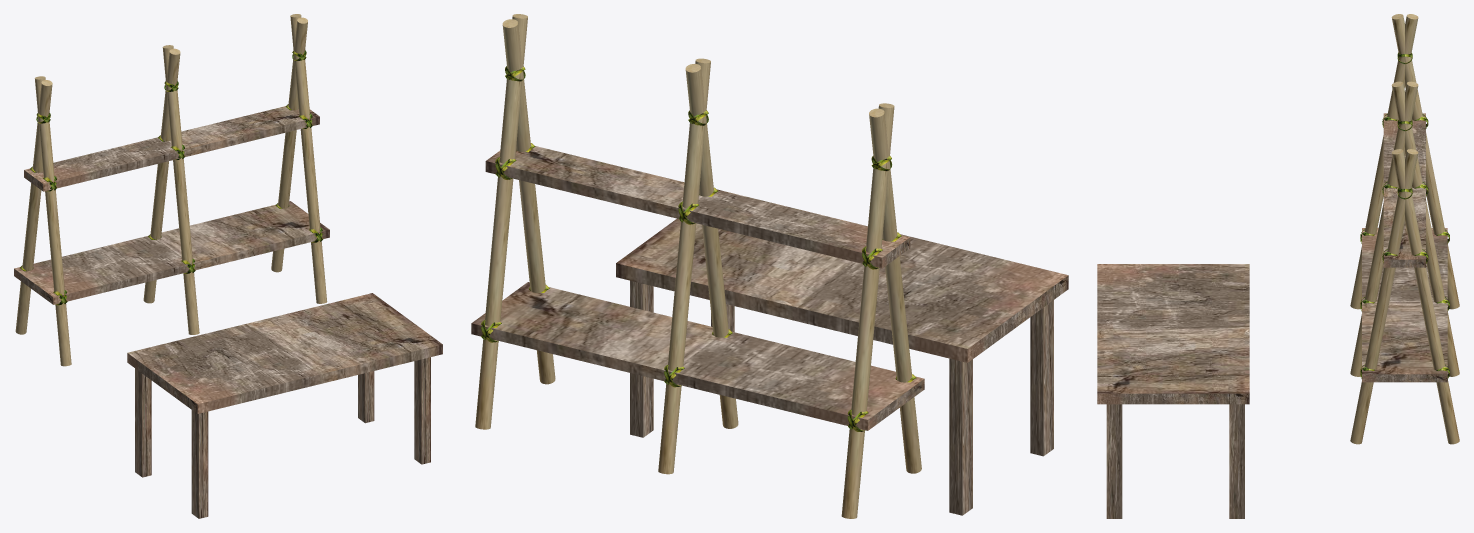
The model's file is comida tendas.fbx.
The picture shows the model from 3 angles, left to right: view 1: azimuth 30°, elevation 25°; view 2: azimuth 150°, elevation 25°; view 3: azimuth 270°, elevation 25°; orthographic projection. The views are drawn at different scales.
Parts seen in each view (by area): view 1: pCube504, pCube503, pCube509, pCylinder127, pCylinder129, pCylinder125, pCylinder128, pCylinder126, pCylinder130, pCube511, pCube512, pCube510 (+1 smaller); view 2: pCube504, pCube503, pCube509, pCylinder126, pCylinder130, pCylinder128, pCylinder127, pCylinder125, pCylinder129, pCube510, pCube511, pCube507; view 3: pCube504, pCube503, pCube509, pCylinder126, pCylinder125, pCylinder128, pCylinder130, pCylinder129, pCylinder127, pCube512, pCube507.
Boxes of the visible parts, x1,y1,x2,y2 form: pCube504: (127, 293, 442, 413); pCube503: (14, 201, 329, 304); pCube509: (24, 106, 319, 191); pCylinder127: (34, 76, 71, 366); pCylinder129: (162, 45, 199, 334); pCylinder125: (290, 14, 327, 303); pCylinder128: (15, 80, 52, 334); pCylinder126: (271, 17, 307, 272); pCylinder130: (143, 48, 180, 303); pCube511: (191, 410, 208, 518); pCube512: (414, 357, 430, 464); pCube510: (135, 368, 151, 477); pCube504: (616, 189, 1068, 362); pCube503: (471, 282, 924, 430); pCube509: (485, 146, 910, 268); pCylinder126: (475, 14, 527, 429); pCylinder130: (658, 58, 710, 474); pCylinder128: (841, 103, 894, 518); pCylinder127: (869, 108, 921, 473); pCylinder125: (502, 19, 555, 384); pCylinder129: (685, 64, 738, 428); pCube510: (949, 358, 972, 515); pCube511: (1030, 300, 1053, 456); pCube507: (630, 280, 653, 437); pCube504: (1097, 264, 1249, 404); pCube503: (1362, 228, 1447, 382); pCube509: (1383, 113, 1425, 267); pCylinder126: (1391, 149, 1459, 444); pCylinder125: (1350, 149, 1418, 444); pCylinder128: (1391, 14, 1459, 309); pCylinder130: (1391, 81, 1459, 376); pCylinder129: (1350, 81, 1418, 376); pCylinder127: (1350, 14, 1418, 309); pCube512: (1106, 404, 1122, 518); pCube507: (1229, 404, 1244, 518).
Size of the model in its own units: 11.52 by 13.64 by 12.07.
